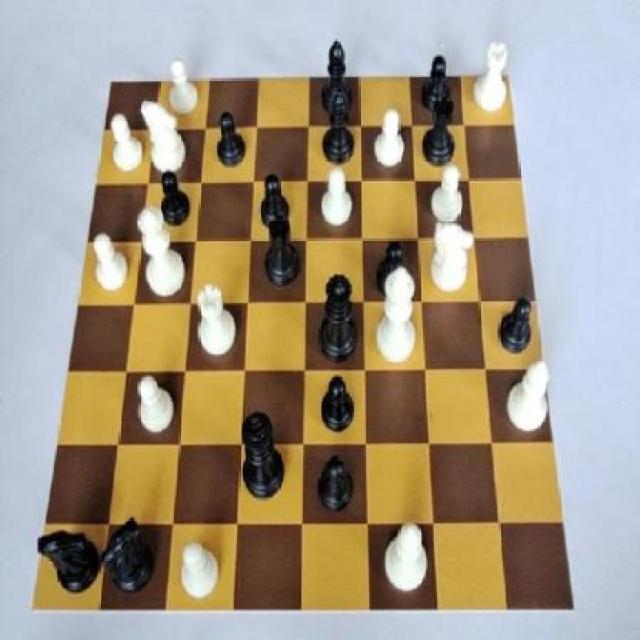bishop: (312, 77, 362, 168), (314, 36, 363, 116)
black-bishop: (237, 403, 293, 508)
black-king: (94, 514, 168, 602), (29, 516, 105, 596)
black-knight: (312, 369, 366, 438), (495, 282, 540, 359), (411, 51, 461, 120), (209, 102, 257, 173), (151, 165, 201, 232), (315, 446, 358, 519), (372, 232, 418, 300), (254, 160, 298, 230)
black-pawn: (316, 266, 366, 366)
black-queen: (254, 210, 306, 296), (412, 91, 466, 169)
black-rook: (377, 509, 431, 603), (503, 351, 558, 442)
white-bishop: (375, 255, 421, 370)
white-king: (134, 94, 192, 178), (429, 214, 478, 301)
white-knight: (128, 366, 182, 440), (84, 226, 134, 297), (176, 534, 224, 601), (105, 106, 147, 177), (162, 51, 206, 118), (314, 164, 358, 230), (372, 104, 410, 174), (429, 158, 468, 224)
white-pawn: (131, 203, 192, 306)
white-queen: (192, 272, 244, 363), (472, 35, 512, 120)
